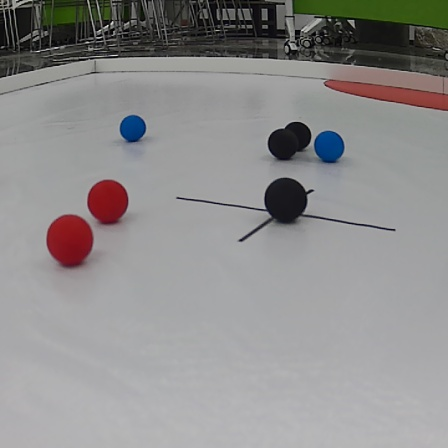black: (261, 176, 313, 223), (265, 127, 298, 159), (286, 117, 310, 150)
blue: (315, 133, 347, 163), (119, 113, 148, 142)
red: (45, 214, 95, 267), (84, 177, 132, 223)
red_base: (321, 72, 448, 115)
